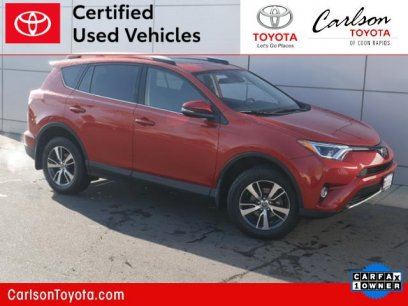Toyota RAV-4: (22, 56, 398, 242)
